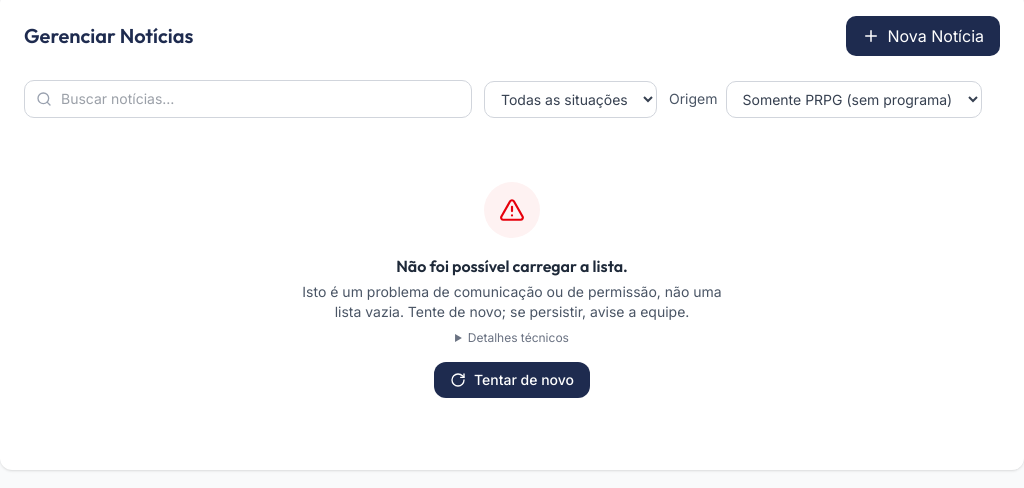
Scenario: tabela única do painel (U.3) › erro de rede/permissão NÃO vira lista vazia: mostra o erro e tenta de novo
Check: the message shows "Não foi possível carregar a lista", box x1=396 y1=256 x2=628 y2=276
Click the button "Tentar de novo".
click(512, 380)  # box x1=434 y1=362 x2=590 y2=398
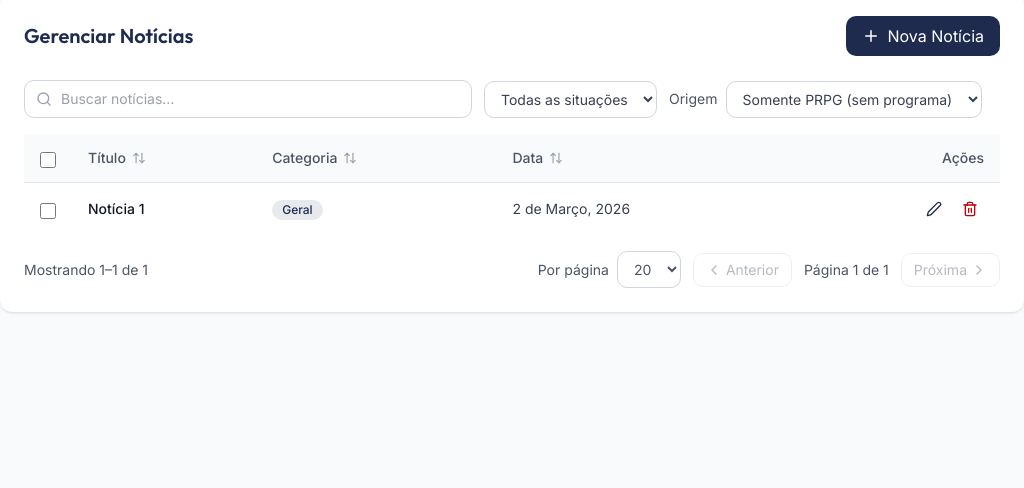
Check: the message is gone
